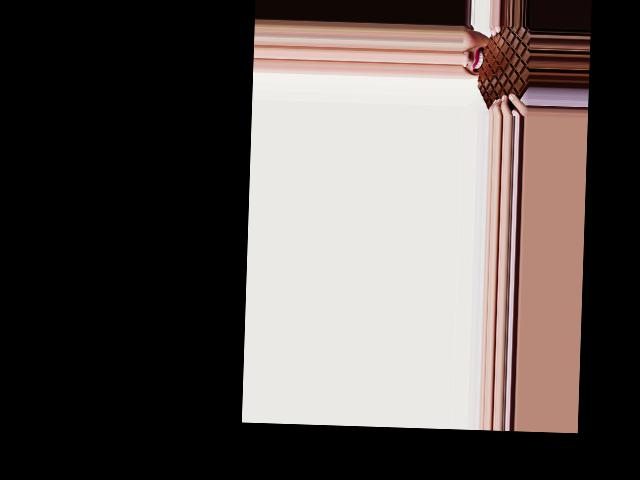chocolate: (474, 25, 530, 117)
